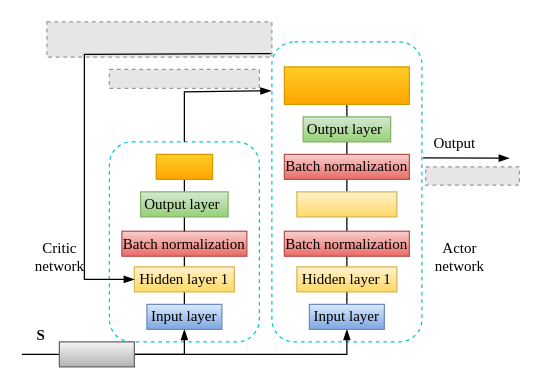
The diagram is 541 pixels wide and 389 high, and some of its shapes have lost their labels. Grey dashed boxes stand in for pictures. Each missing label, with the centre of its shape:
"Hidden layer 2" belongs at (346,204).
"Power and modular normalization" belongs at (346,85).
"Q value" belongs at (183,166).
"Whitening" belongs at (96,354).
